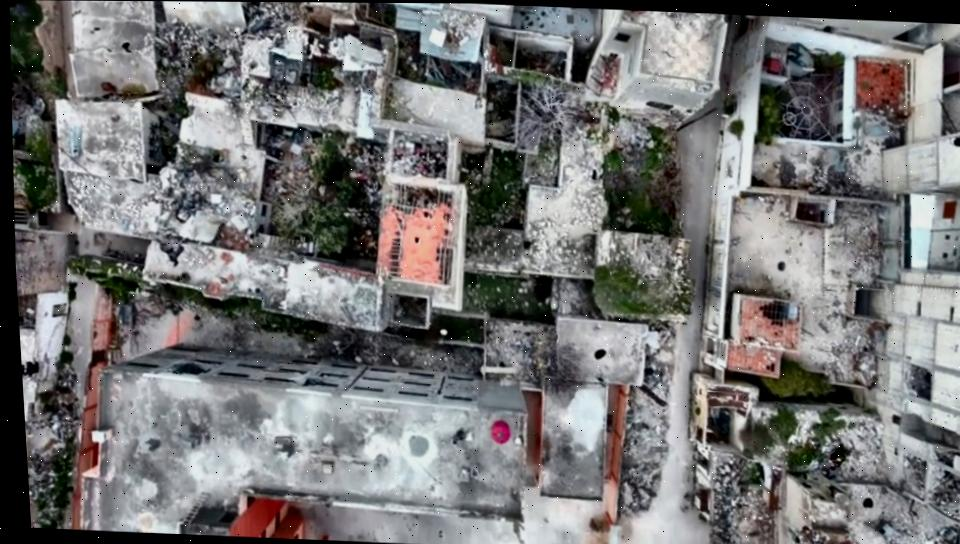kapali: (615, 320, 711, 544)
